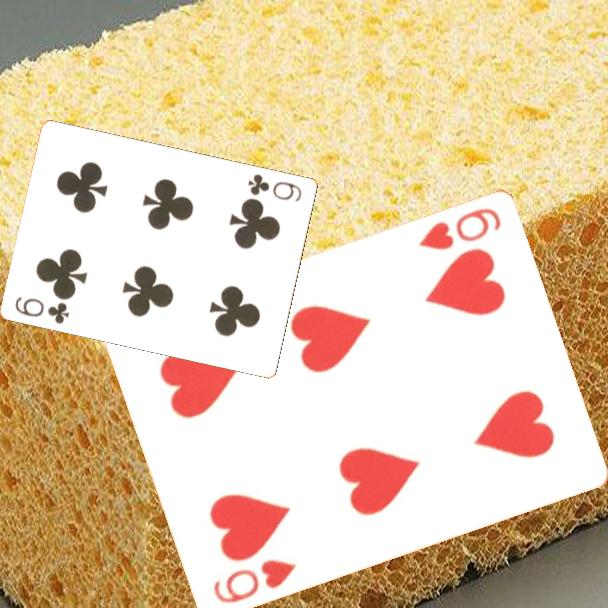c06: (12, 293, 73, 327), (245, 170, 305, 204)
h06: (209, 556, 299, 607), (415, 205, 504, 254)
